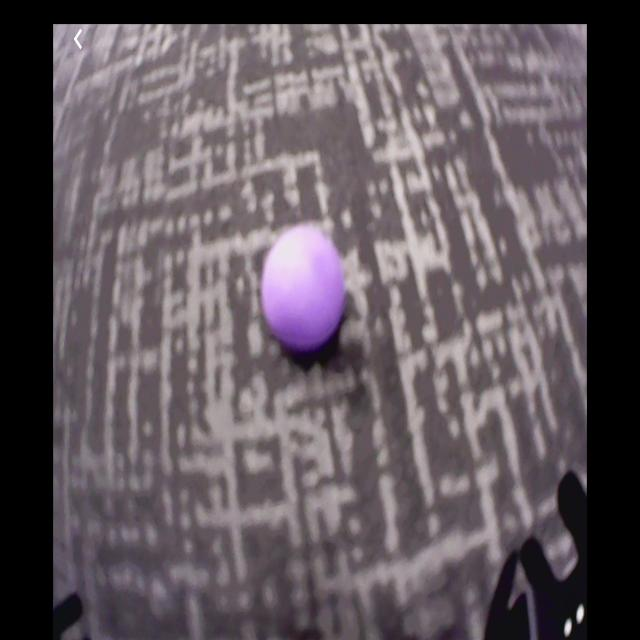ball: (263, 228, 348, 349)
